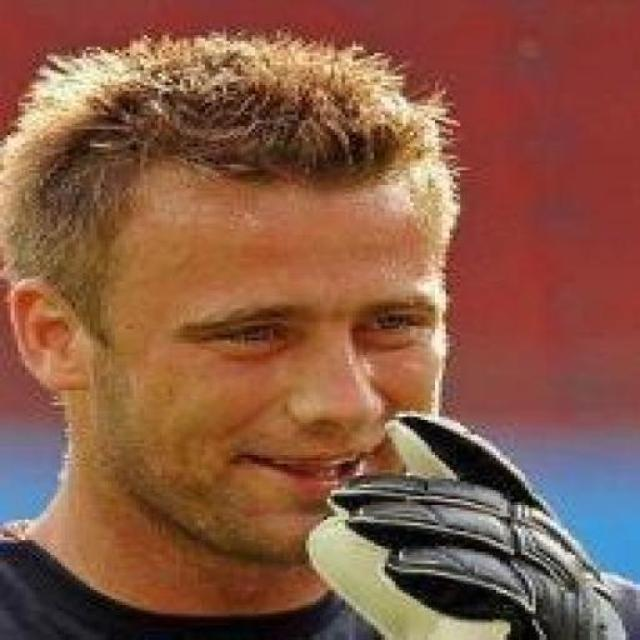bareface: (84, 146, 512, 562)
